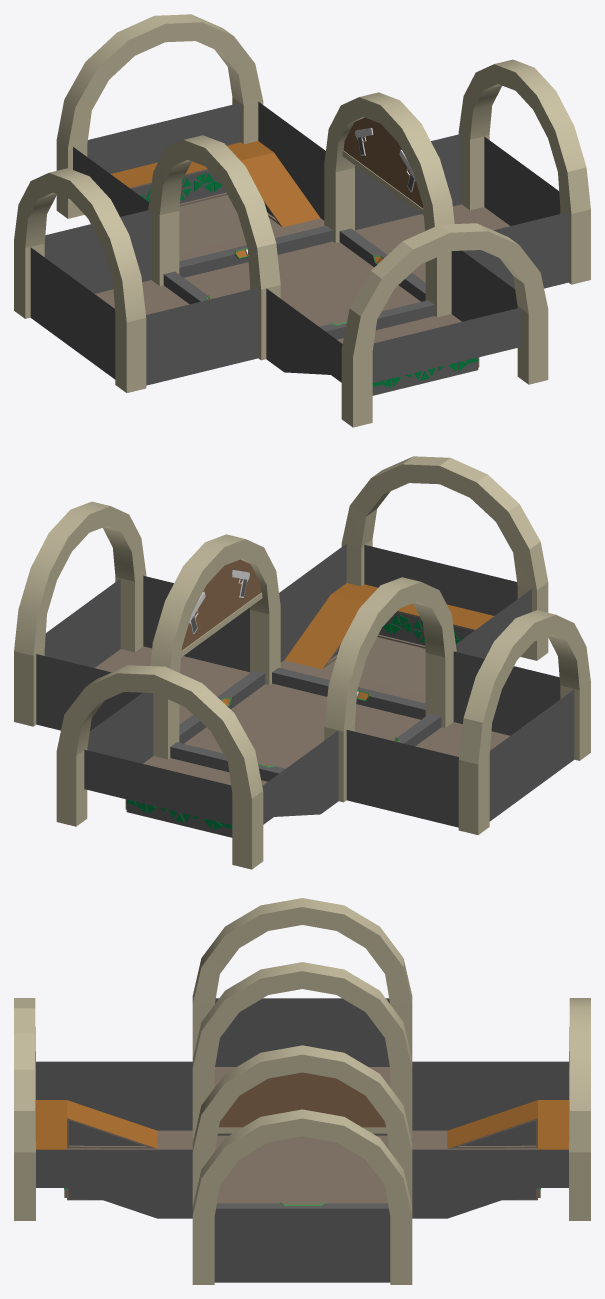
Rendered from ShootingRange.fbx.
3 views of the same model, one above another, from view 1: azimuth 30°, elevation 25°; view 2: azimuth 150°, elevation 25°; view 3: azimuth 270°, elevation 25° (orthographic). The views are drawn at different scales.
Parts seen in each view (by area): view 1: base1, polySurface23, side2, side1, polySurface24, base3, base2, base, base4, pCube41 (×4), pCube47; view 2: base1, polySurface23, side1, side2, polySurface24, base4, base2, base, base3, pCube41 (×4), pCube47; view 3: base1, side1, side2, polySurface24, base, polySurface23, base2, pCube47, base3, base4, pCube41.
Boxes of the visible parts, x1=… form: base1: x1=148, y1=92, x2=454, y2=360; polySurface23: x1=30, y1=209, x2=258, y2=385; side2: x1=73, y1=102, x2=325, y2=261; side1: x1=266, y1=250, x2=520, y2=395; polySurface24: x1=355, y1=133, x2=568, y2=288; base3: x1=341, y1=223, x2=548, y2=427; base2: x1=14, y1=168, x2=146, y2=392; base: x1=458, y1=59, x2=590, y2=284; base4: x1=56, y1=14, x2=263, y2=218; pCube41 (×4): x1=163, y1=225, x2=434, y2=339; pCube47: x1=342, y1=117, x2=423, y2=215; base1: x1=150, y1=534, x2=456, y2=802; polySurface23: x1=346, y1=651, x2=574, y2=827; side1: x1=279, y1=544, x2=531, y2=703; side2: x1=84, y1=692, x2=338, y2=837; polySurface24: x1=36, y1=575, x2=249, y2=730; base4: x1=56, y1=665, x2=263, y2=869; base2: x1=458, y1=610, x2=590, y2=834; base: x1=14, y1=501, x2=146, y2=726; base3: x1=341, y1=456, x2=548, y2=660; pCube41 (×4): x1=170, y1=667, x2=441, y2=781; pCube47: x1=181, y1=559, x2=262, y2=657; base1: x1=192, y1=962, x2=412, y2=1206; side1: x1=35, y1=1061, x2=193, y2=1218; side2: x1=412, y1=1061, x2=569, y2=1218; polySurface24: x1=214, y1=1213, x2=390, y2=1282; base: x1=192, y1=1109, x2=412, y2=1284; polySurface23: x1=214, y1=998, x2=390, y2=1087; base2: x1=192, y1=898, x2=412, y2=1058; pCube47: x1=218, y1=1072, x2=386, y2=1133; base3: x1=14, y1=998, x2=35, y2=1220; base4: x1=569, y1=998, x2=590, y2=1220; pCube41: x1=215, y1=1202, x2=389, y2=1213.
Size of the model in its own units: 108 by 38.41 by 120.
